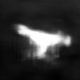plane: (13, 21, 73, 63)
